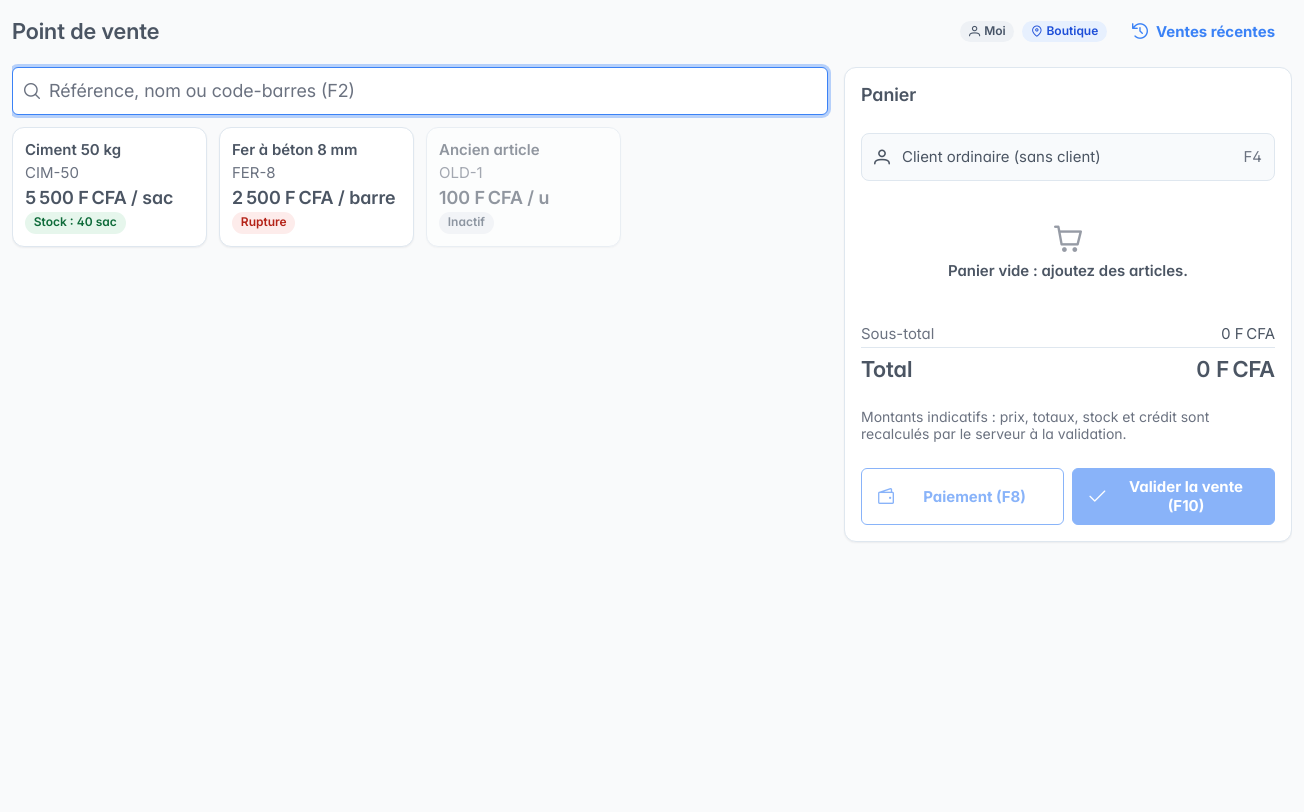
point de vente › panier : ajout, un article une fois, quantités, suppression, total
Step 1. Click the button with aria-label "Ajouter Ciment 50 kg au panier" → (110, 187), box [12,127,207,247]
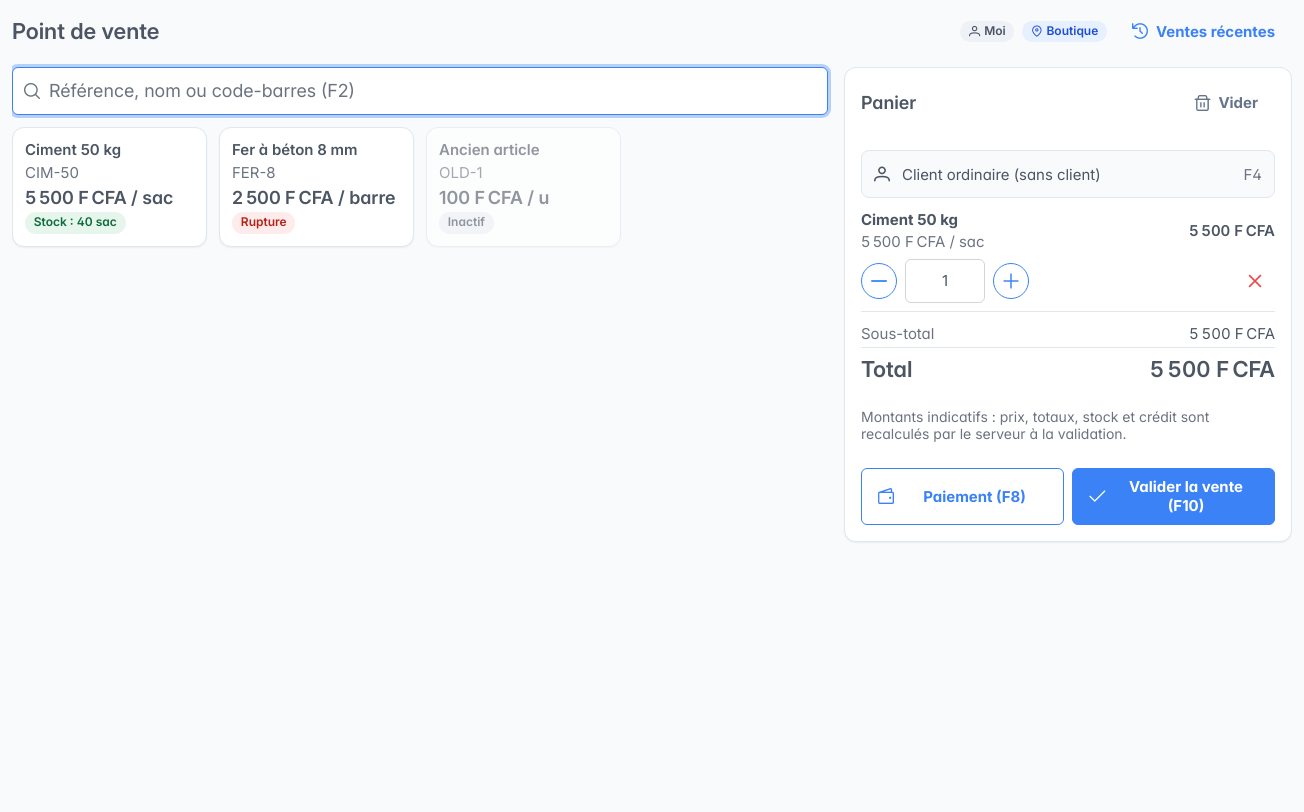
Step 2. Click the button with aria-label "Ajouter Ciment 50 kg au panier" → (110, 187), box [12,127,207,247]
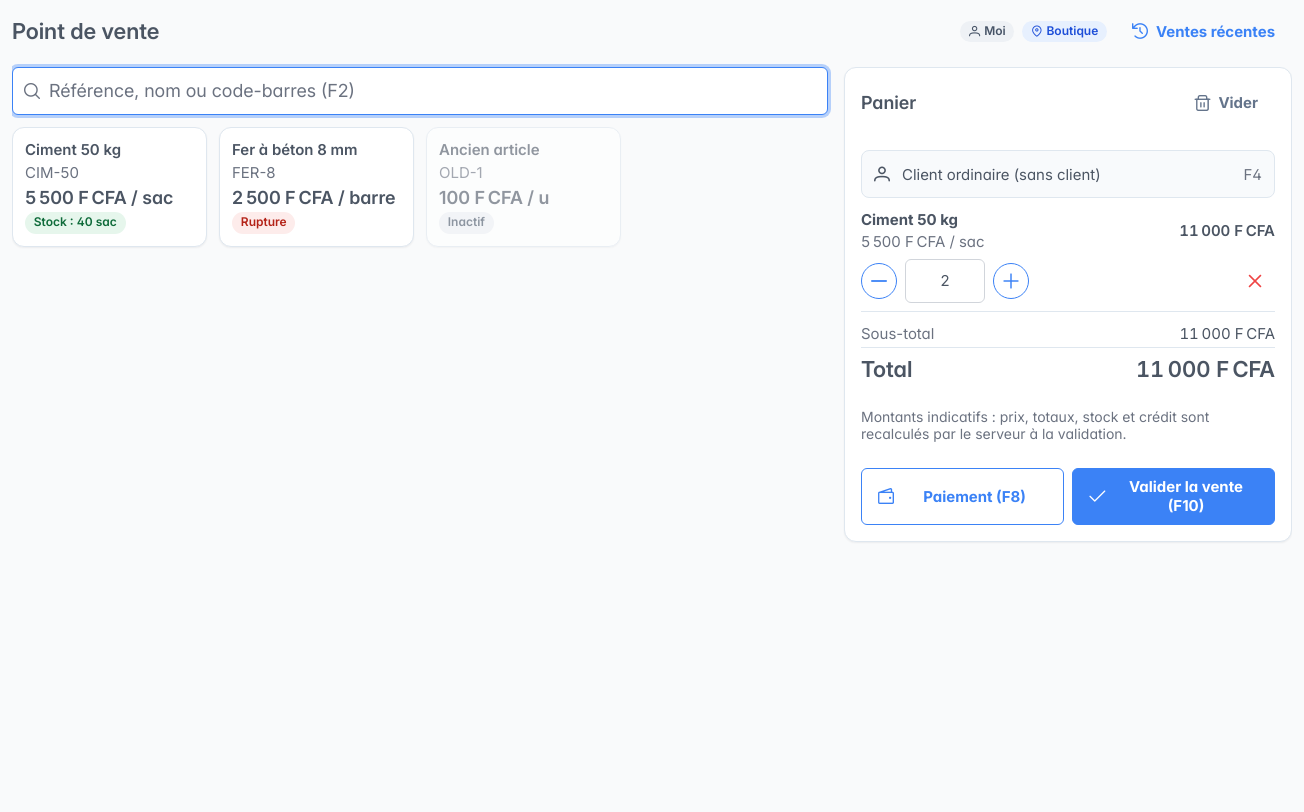
Expected: the field named "Quantité de Ciment 50 kg" holds "2", [905,259,985,303]
Step 3. Click the button named "Augmenter la quantité de Ciment 50 kg" → (1011, 281), box [993,263,1029,299]
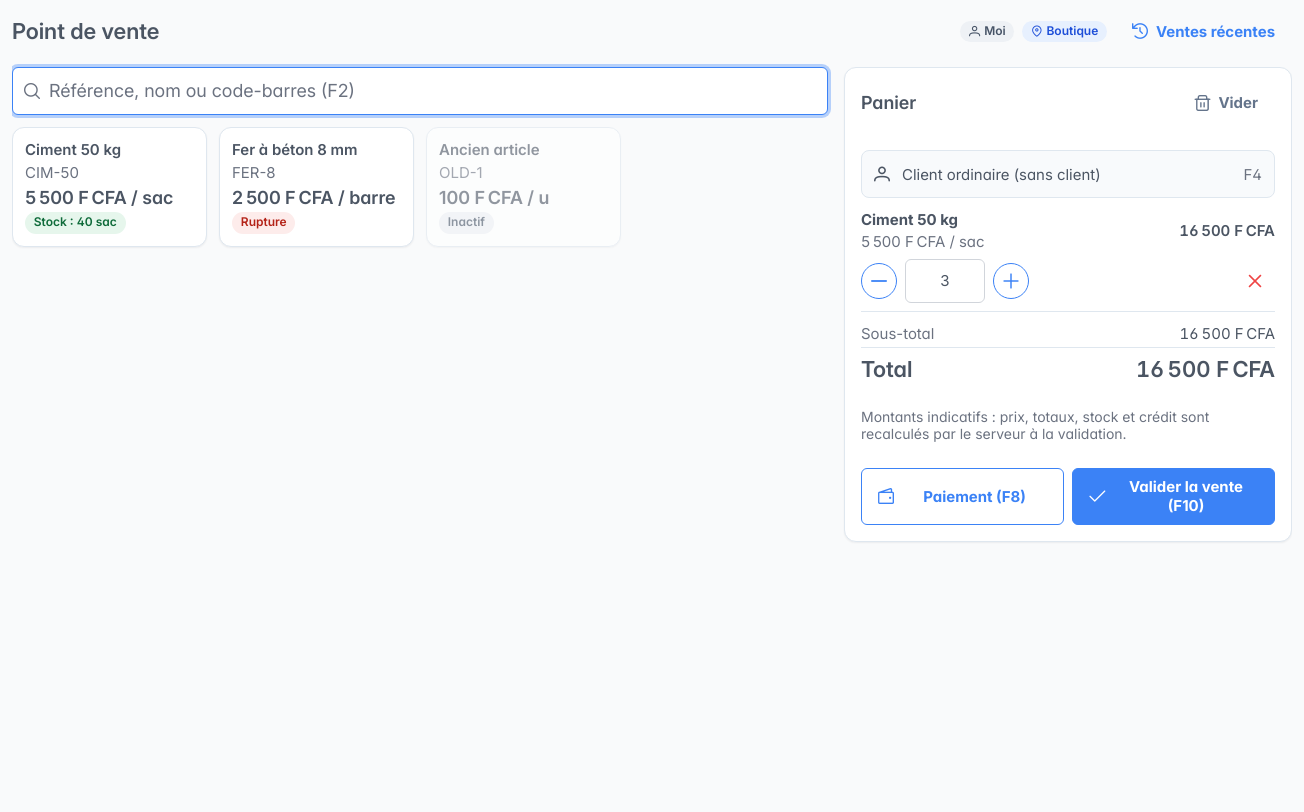
Step 4. Replace the text in the field named "Quantité de Ciment 50 kg" with "0" → (945, 281), box [905,259,985,303]
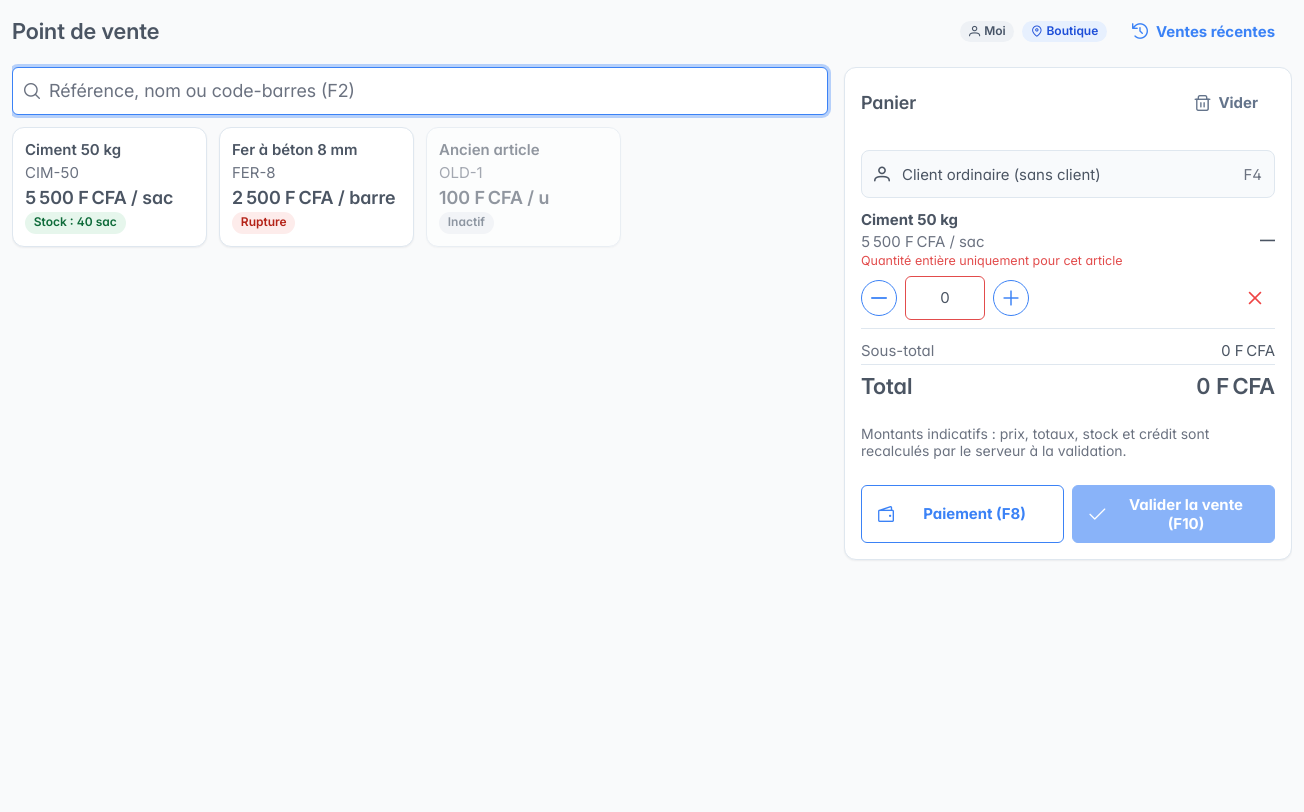
Expected: the button "Valider la vente (F10)" is disabled, [1072,485,1275,543]
Step 5. Click the button named "Retirer Ciment 50 kg du panier" → (1255, 298), box [1235,279,1275,317]
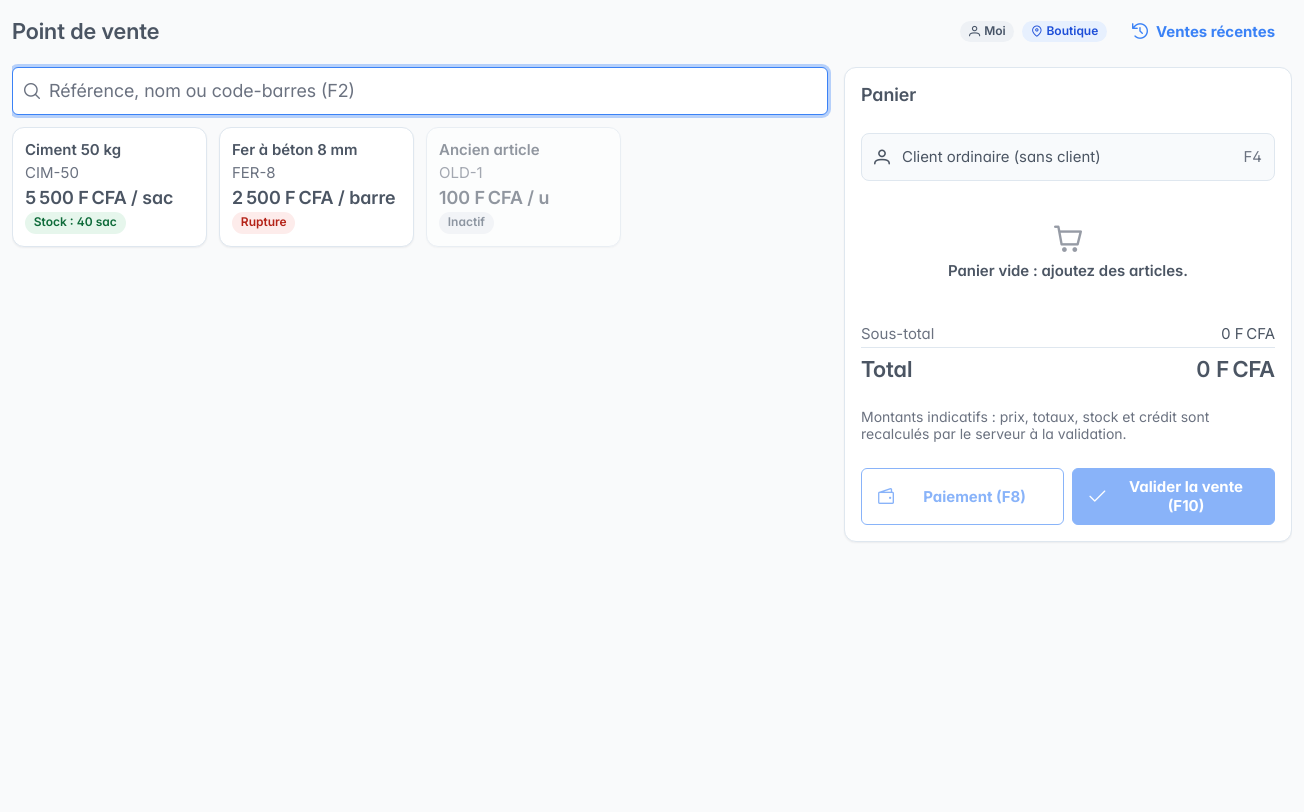
Expected: the text "Panier vide : ajoutez des articles." is shown, [948,261,1188,280]
